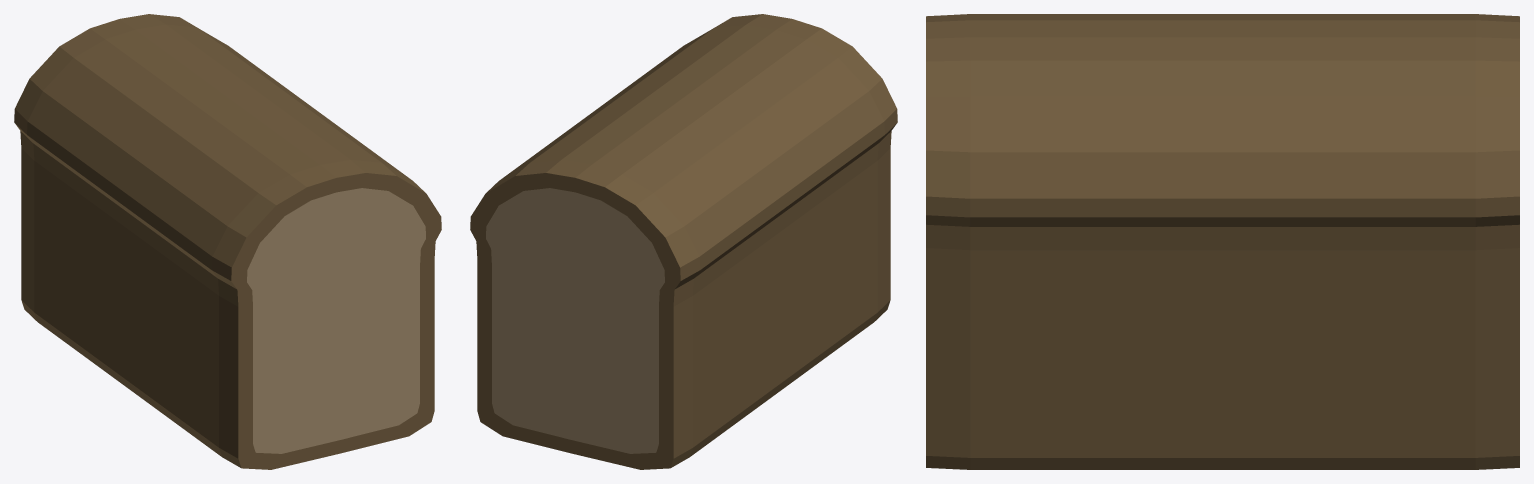
The model's file is Bread.glb.
3 renders of one model, left to right at view 1: azimuth 30°, elevation 25°; view 2: azimuth 150°, elevation 25°; view 3: azimuth 270°, elevation 25°, orthographic. The views are drawn at different scales.
Visible parts, largest first — view 1: Bread; view 2: Bread; view 3: Bread.
Part boxes in pixels (x1,y1,x2,y2): Bread: [14, 14, 441, 469]; Bread: [470, 14, 897, 469]; Bread: [926, 14, 1519, 469].
Bounding box in the file's own units: 0.6933 × 0.847 × 1.2.
